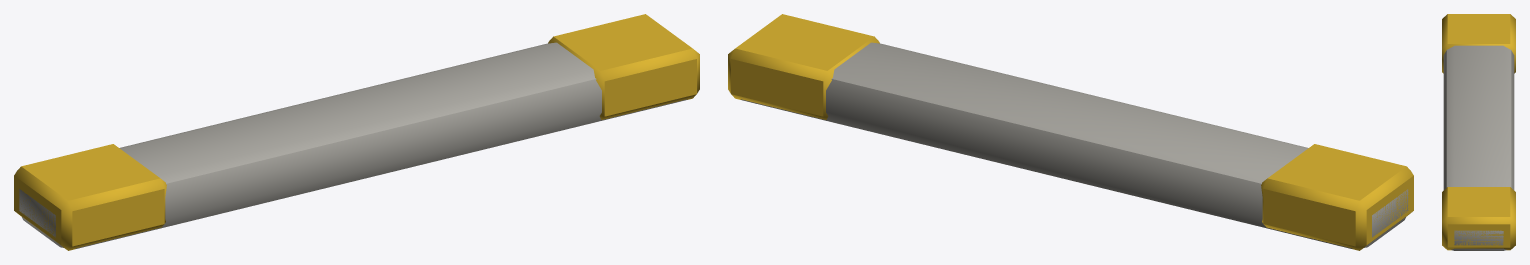
File: WheelStop.fbx
3 renders of one model, left to right at view 1: azimuth 30°, elevation 25°; view 2: azimuth 150°, elevation 25°; view 3: azimuth 270°, elevation 25°, orthographic. The views are drawn at different scales.
Parts seen in each view (by area): view 1: WheelStop; view 2: WheelStop; view 3: WheelStop.
Boxes of the visible parts, <box> form: WheelStop: <box>14,14,699,250</box>; WheelStop: <box>728,14,1413,250</box>; WheelStop: <box>1442,14,1515,250</box>.
Size of the model in its own units: 1.8 by 0.145 by 0.27.
